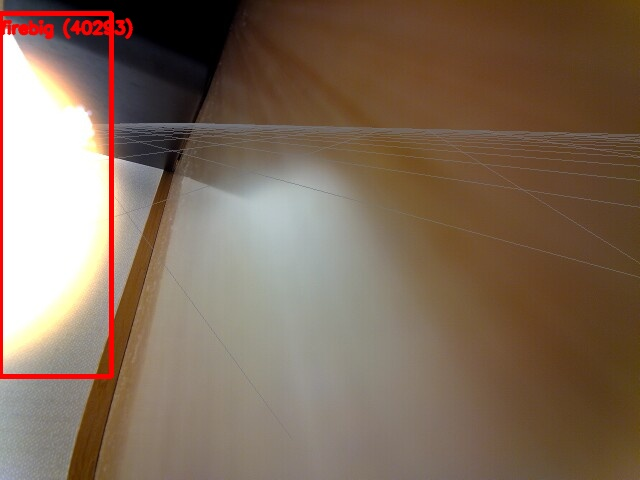firebig: (0, 13, 111, 376)
